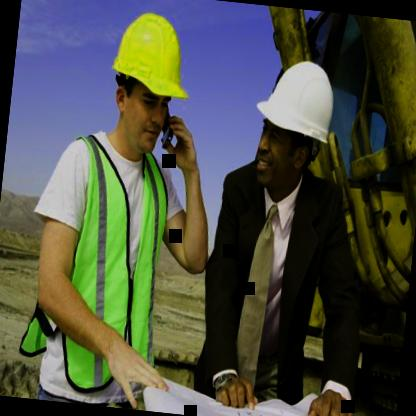helmet: (237, 42, 350, 210), (91, 0, 200, 166)
